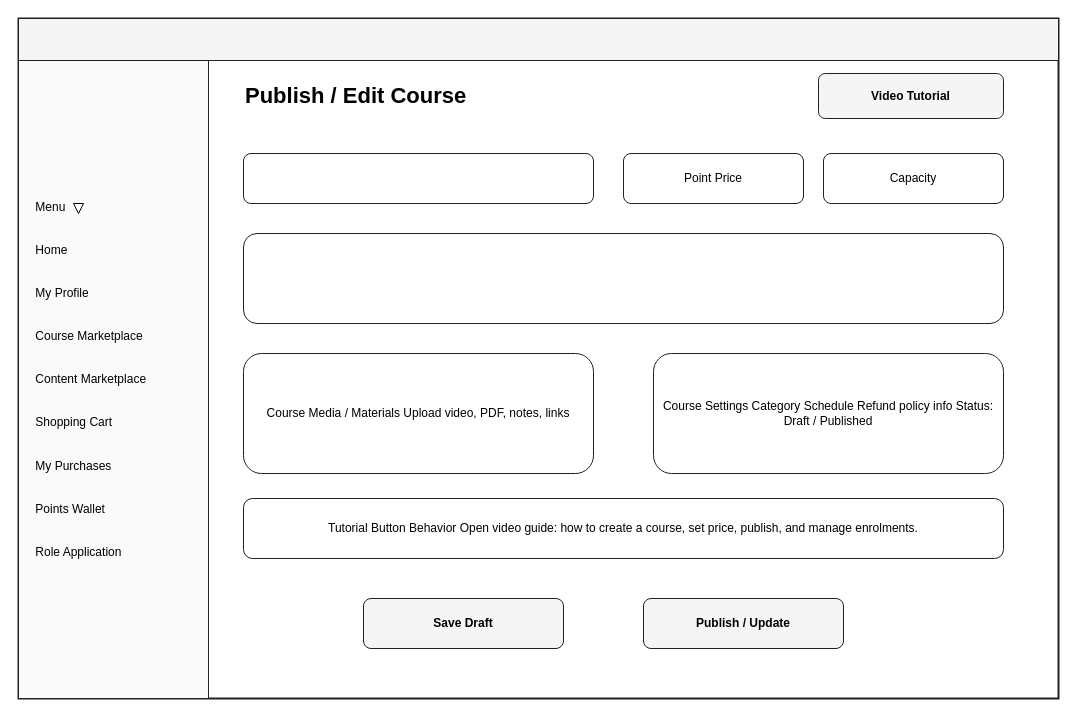
This 1076x716 diagram has some shape labels left out. Here are the shapes that lost their labels. From the top down, the box of each, then its label:
(18, 18, 1058, 60): Trainer Course Publish/Edit
(242, 152, 594, 204): Course Title
(242, 232, 1004, 324): Course Description
